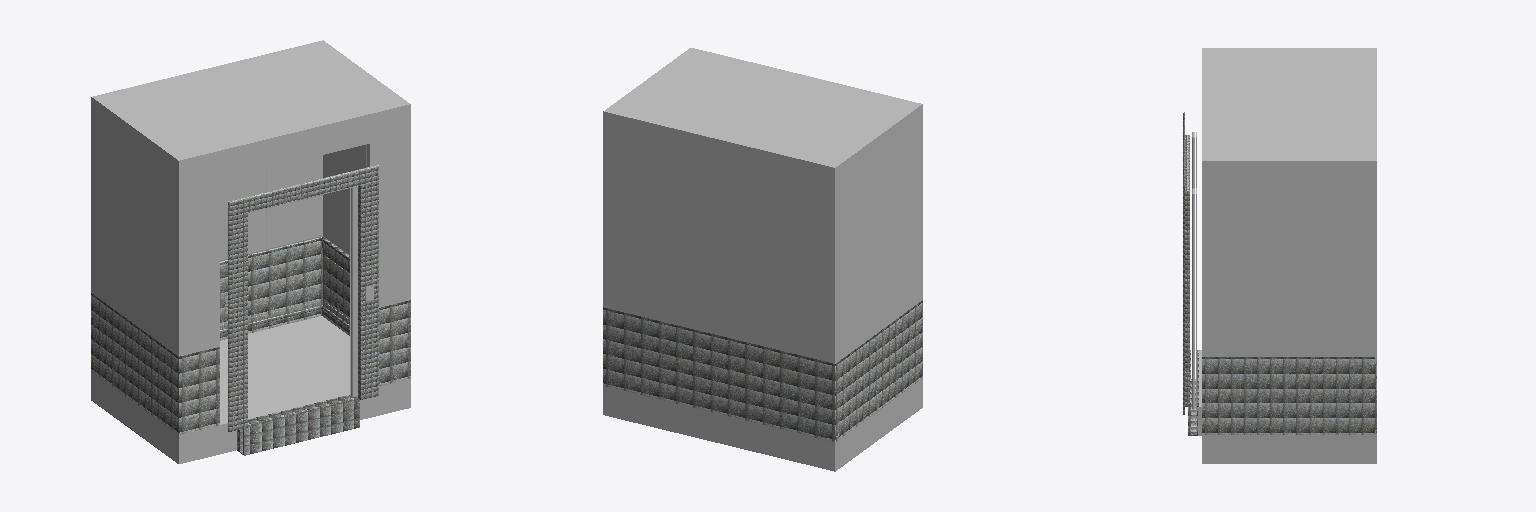
3 renders of one model, left to right at view 1: azimuth 30°, elevation 25°; view 2: azimuth 150°, elevation 25°; view 3: azimuth 270°, elevation 25°, orthographic.
Visible parts, largest first — view 1: Elevator_1_N240810; view 2: Elevator_1_N240810; view 3: Elevator_1_N240810.
Part boxes in pixels (bbox=[...]): Elevator_1_N240810: bbox=[91, 40, 410, 463]; Elevator_1_N240810: bbox=[603, 48, 922, 471]; Elevator_1_N240810: bbox=[1183, 48, 1376, 463].
Size of the model in its own units: 27.43 by 34.33 by 19.91.
10 materials, 2 textured.